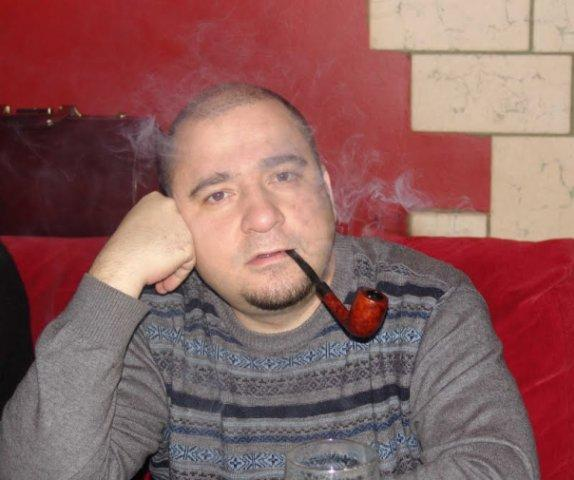trubka: (288, 250, 388, 342)
